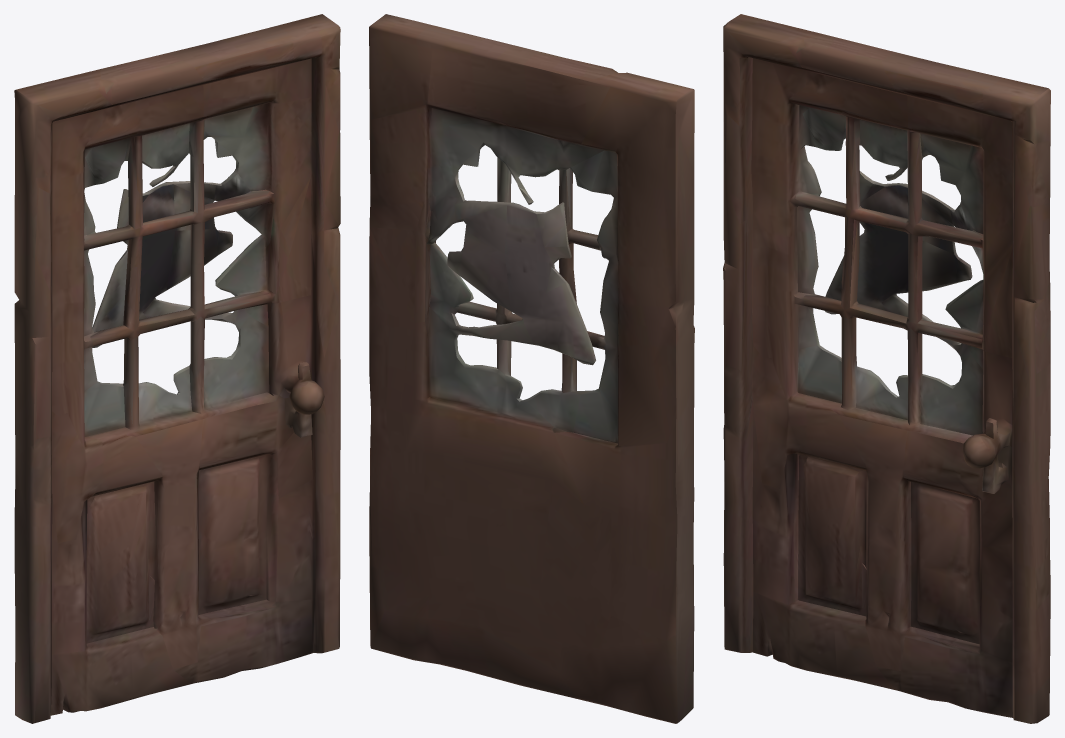
File: door_11_idle.glb
3 views of the same model, side by side, from view 1: azimuth 30°, elevation 25°; view 2: azimuth 150°, elevation 25°; view 3: azimuth 330°, elevation 25° (orthographic).
Parts seen in each view (by area): view 1: door_11; view 2: door_11; view 3: door_11.
Part boxes in pixels (x1=…): door_11: x1=14, y1=14, x2=340, y2=723; door_11: x1=369, y1=14, x2=694, y2=723; door_11: x1=723, y1=14, x2=1050, y2=723.
Size of the model in its own units: 1.09 by 2.1 by 0.268.
1 material, 1 textured.
